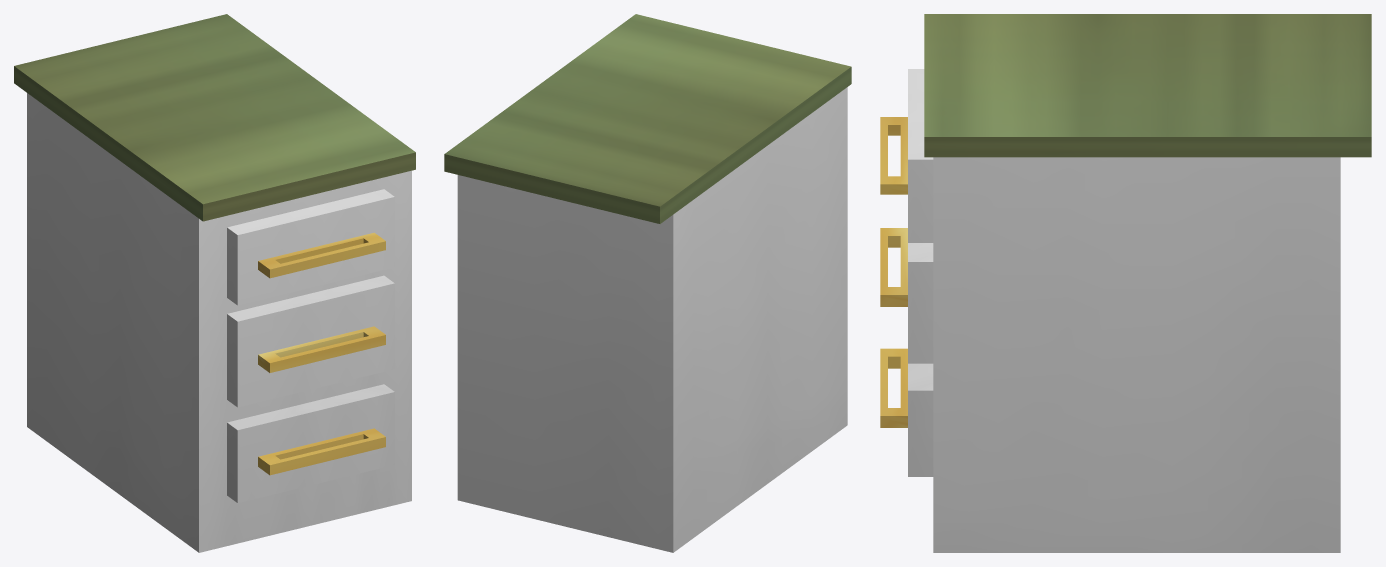
Rendered from sm_worktop_standar_007x007x005_a.fbx.
3 renders of one model, left to right at view 1: azimuth 30°, elevation 25°; view 2: azimuth 150°, elevation 25°; view 3: azimuth 270°, elevation 25°, orthographic. The views are drawn at different scales.
Parts seen in each view (by area): view 1: sm_worktop_standar_007x007x005_a; view 2: sm_worktop_standar_007x007x005_a; view 3: sm_worktop_standar_007x007x005_a.
Part boxes in pixels (bbox=[...]): sm_worktop_standar_007x007x005_a: bbox=[14, 14, 415, 552]; sm_worktop_standar_007x007x005_a: bbox=[444, 14, 851, 552]; sm_worktop_standar_007x007x005_a: bbox=[880, 14, 1371, 552].
Bounding box in the file's own units: 50 × 78.85 × 84.37.
